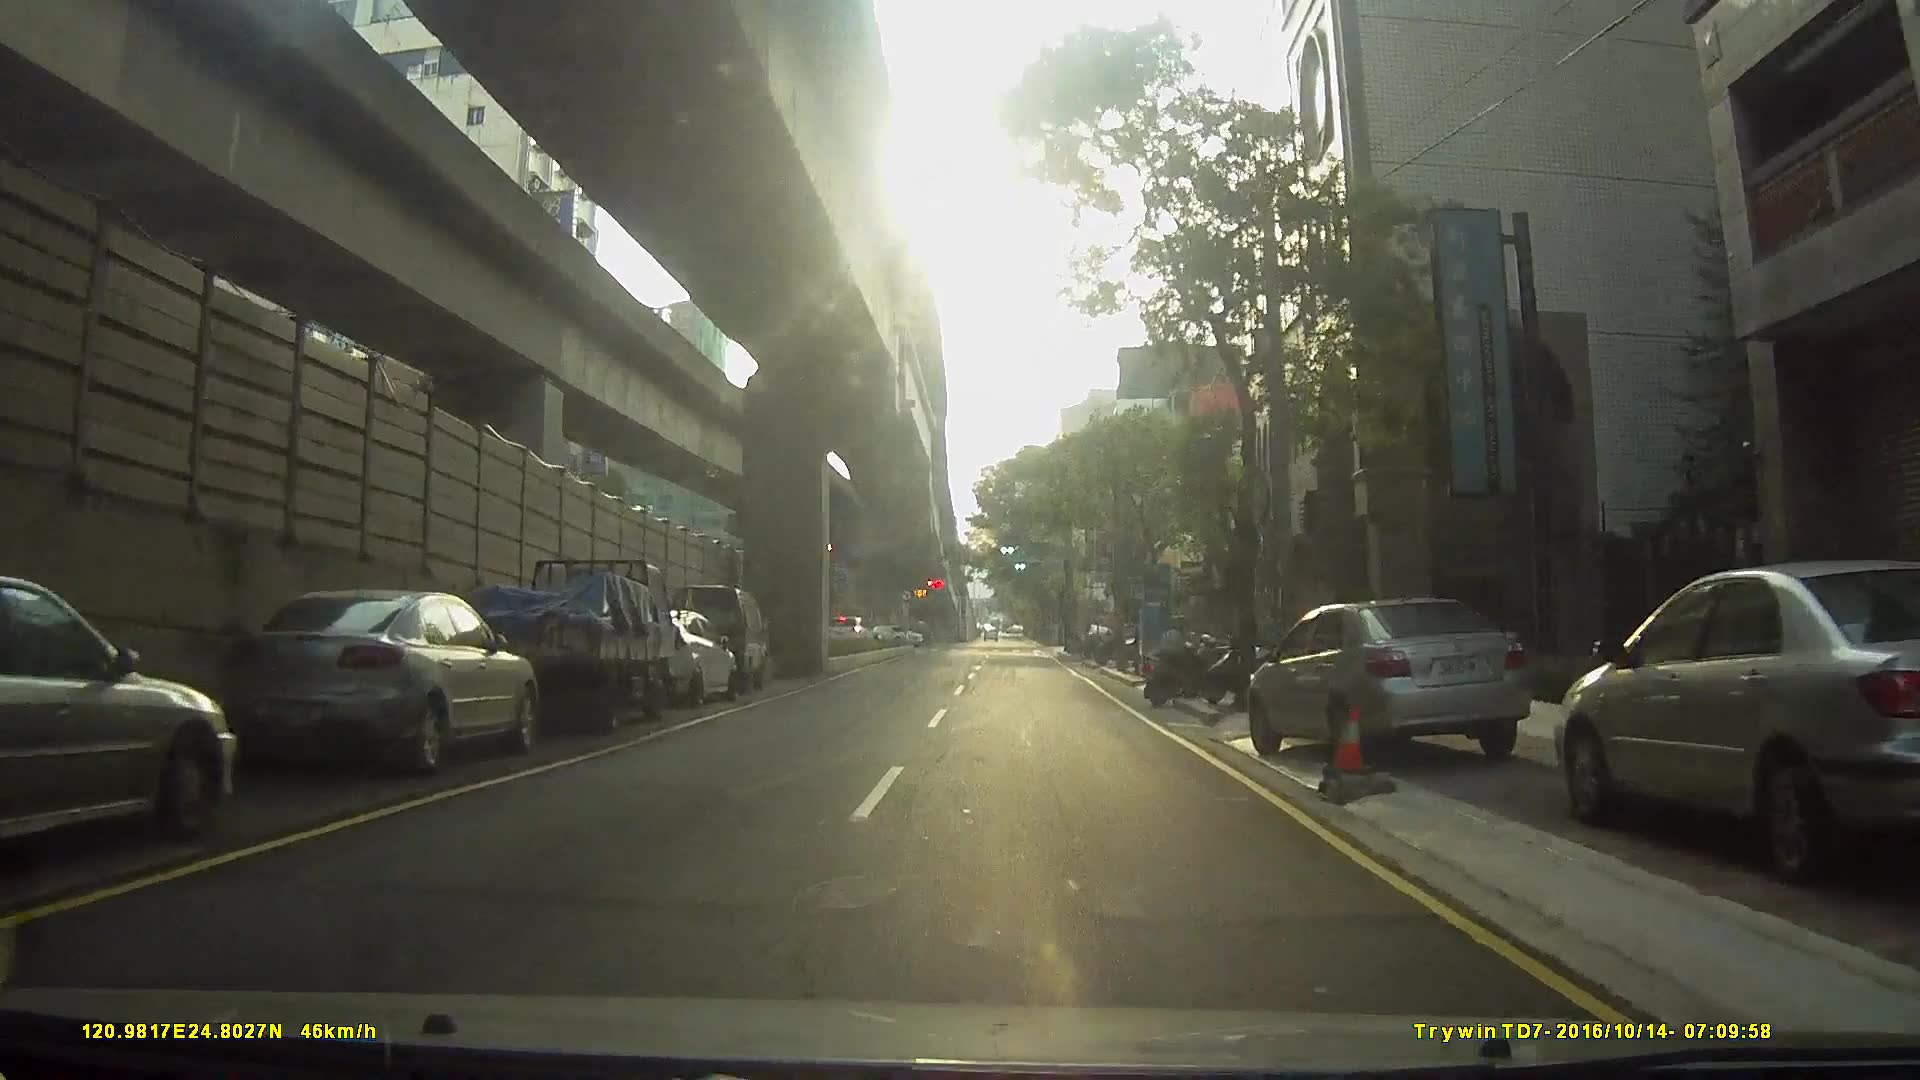rider: (1143, 619, 1225, 711)
vehicle: (1542, 553, 1916, 899), (1, 564, 238, 865), (214, 585, 538, 787), (1243, 594, 1565, 773), (448, 559, 708, 730), (605, 606, 738, 710), (821, 614, 876, 650)
